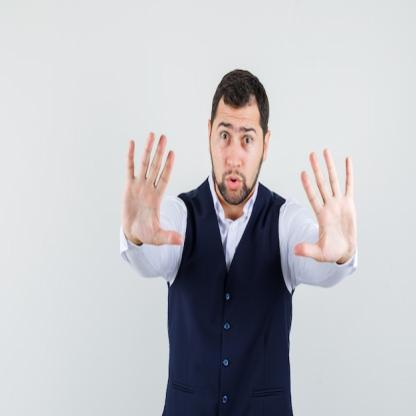stop: (119, 125, 184, 254), (294, 145, 358, 268)
